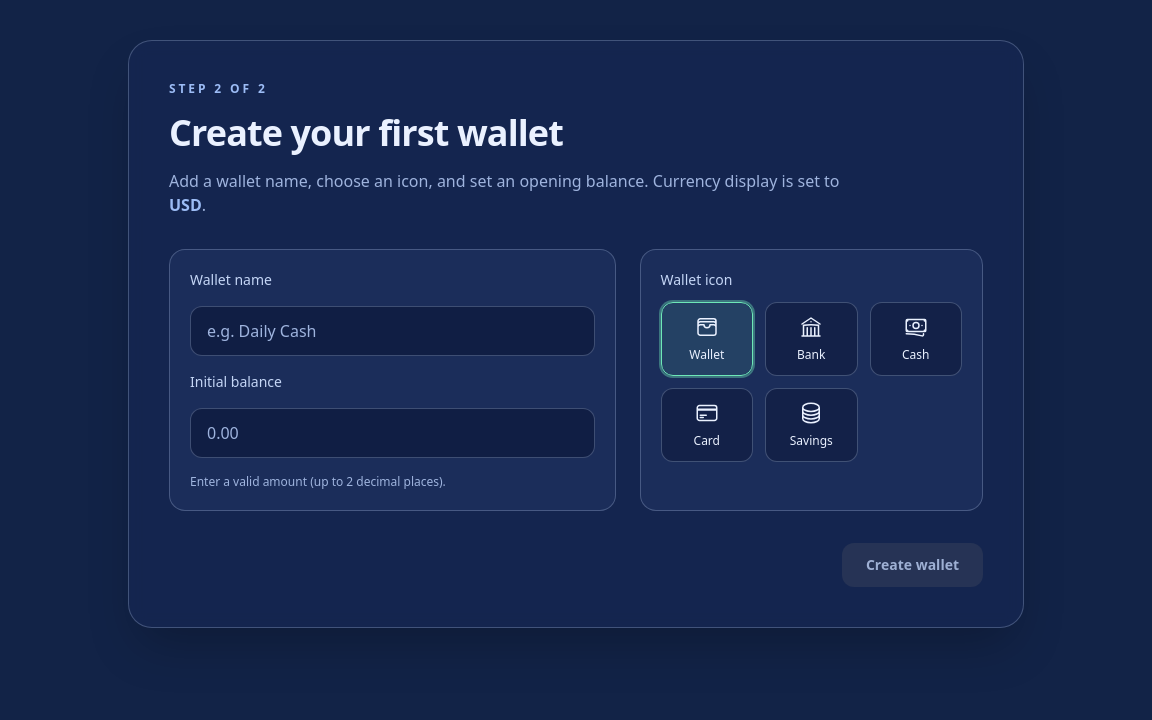
it: onboarding routing flow › creates first wallet, stores last context, and enters transactions area
Type "Daily Cash" into the field labelled "Wallet name" at (392, 331), box [190, 306, 594, 356]
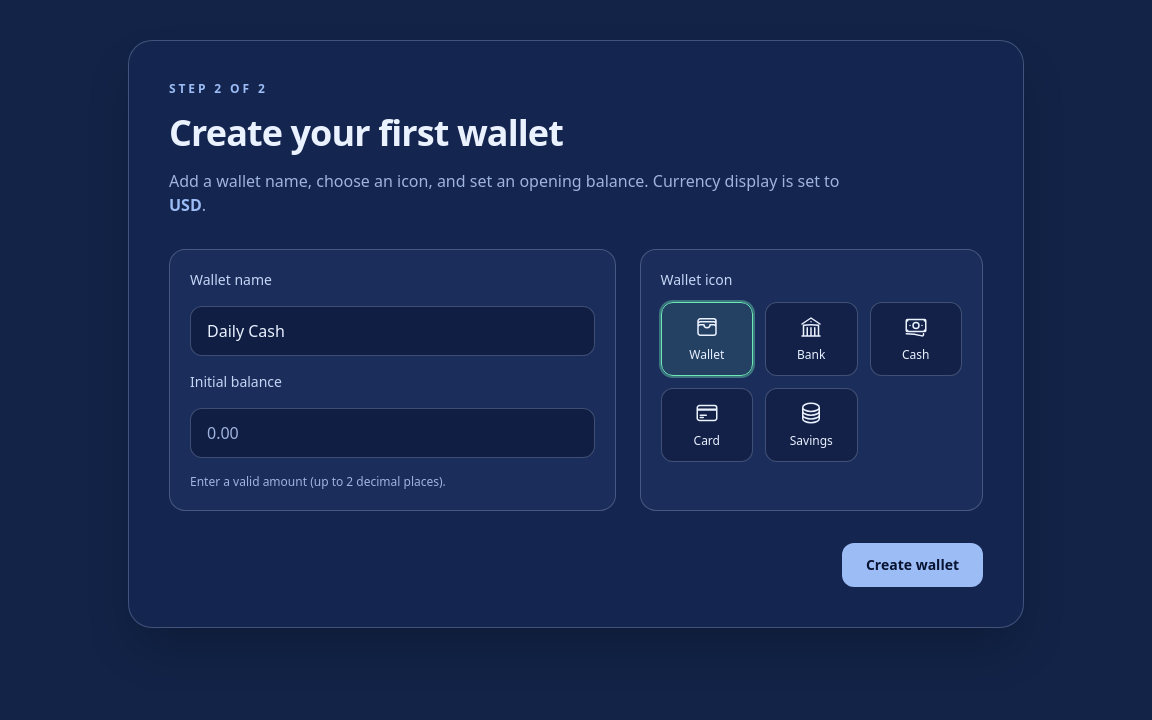
Type "1000.50" into the field labelled "Initial balance" at (392, 433), box [190, 408, 594, 458]
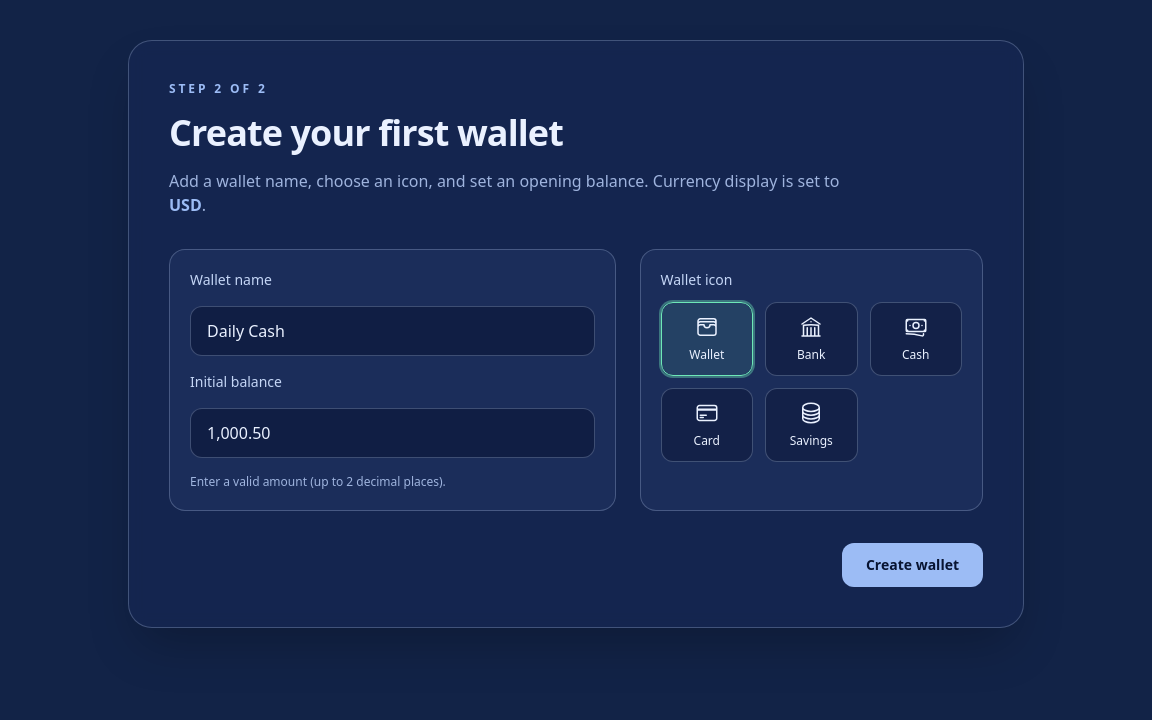
Click the button "Create wallet" at (912, 565), box [842, 543, 983, 587]
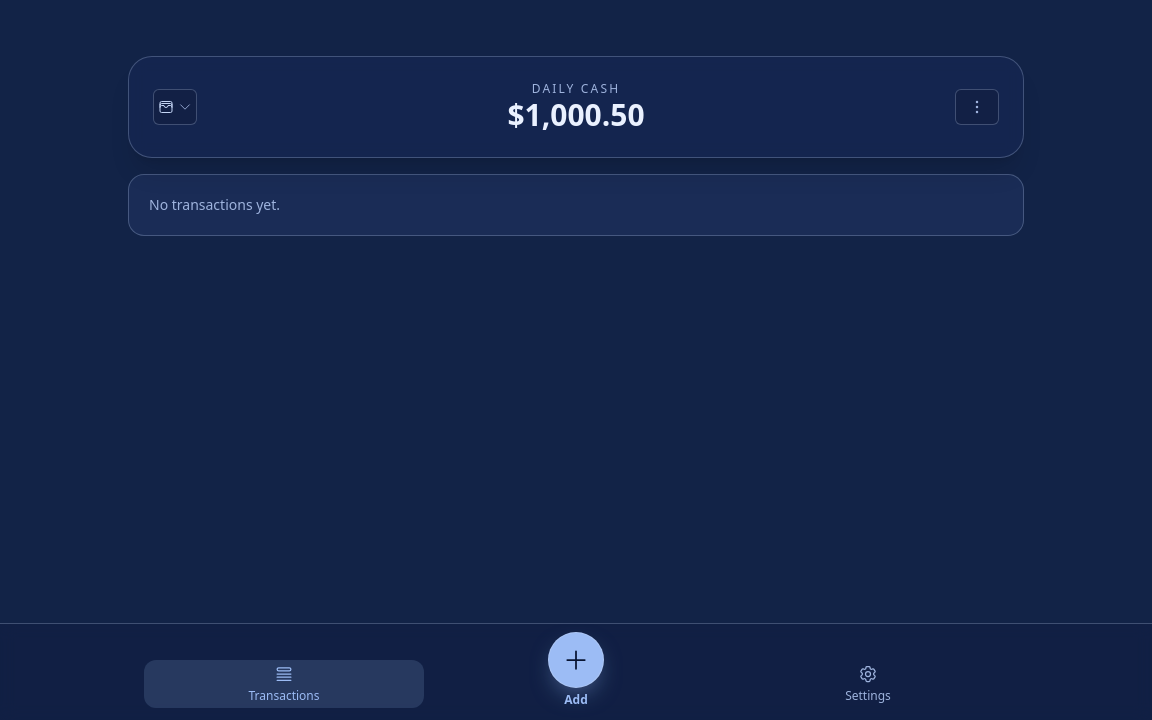
Now the text "No transactions yet." is shown, box [128, 174, 1024, 236]
